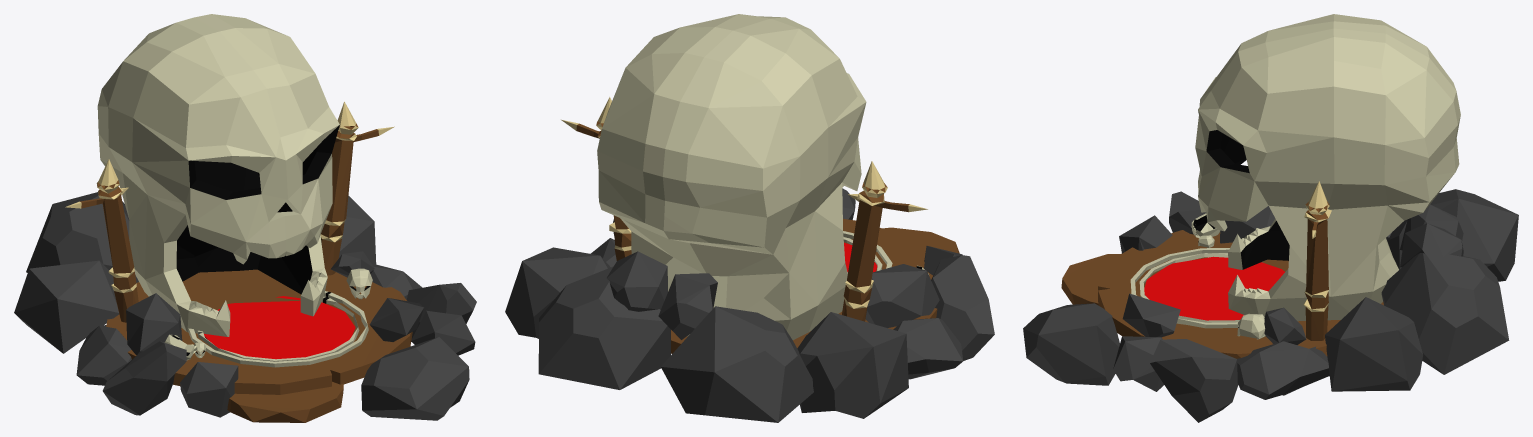
File: GegnerSpawner.fbx
The picture shows the model from 3 angles, left to right: view 1: azimuth 30°, elevation 25°; view 2: azimuth 150°, elevation 25°; view 3: azimuth 270°, elevation 25°; orthographic projection. The views are drawn at different scales.
Visible parts, largest first — view 1: Spawner; view 2: Spawner; view 3: Spawner.
Boxes of the visible parts, <box> form: Spawner: <box>14,14,476,422</box>; Spawner: <box>505,14,994,422</box>; Spawner: <box>1023,14,1518,422</box>.
Size of the model in its own units: 260 by 223 by 316.
